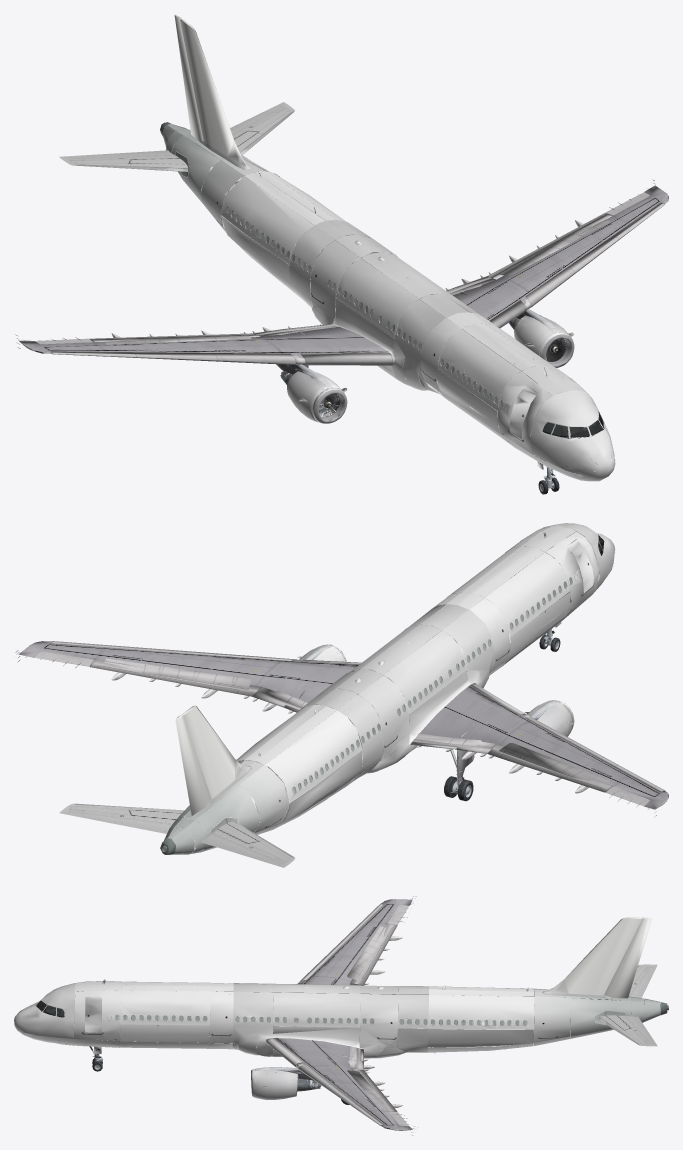
Rendered from airliner_a321.glb.
The picture shows the model from 3 angles, top to bottom: view 1: azimuth 30°, elevation 25°; view 2: azimuth 150°, elevation 25°; view 3: azimuth 270°, elevation 25°; orthographic projection. The views are drawn at different scales.
Visible parts, largest first — view 1: BODY; view 2: BODY; view 3: BODY.
Boxes of the visible parts, left/top/right/bottom form: BODY: left=15, top=14, right=668, bottom=494; BODY: left=15, top=523, right=668, bottom=867; BODY: left=14, top=896, right=668, bottom=1135.
Bounding box in the file's own units: 37.04 × 11.68 × 44.5.
21 materials, 11 textured.
